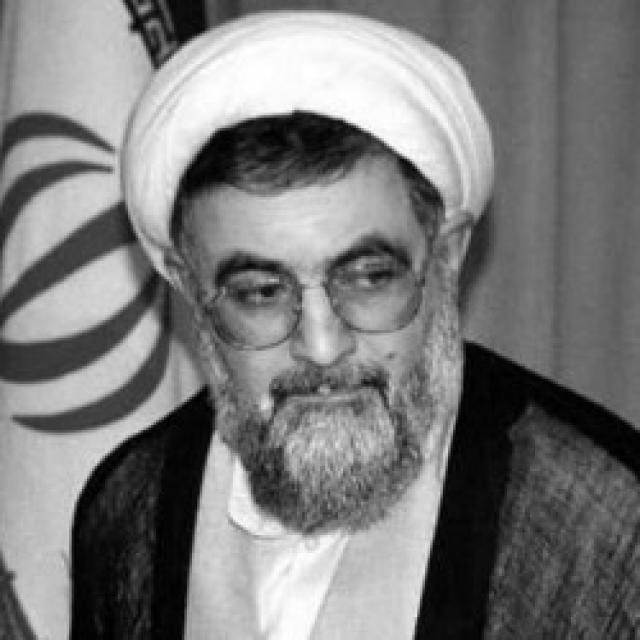real: (168, 173, 454, 483), (224, 255, 410, 321)
